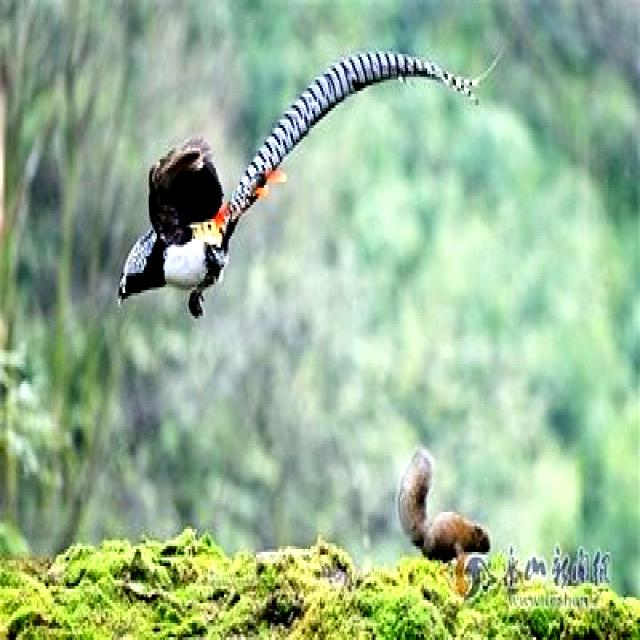Chrysolophus amherstiae: (230, 51, 496, 210)
